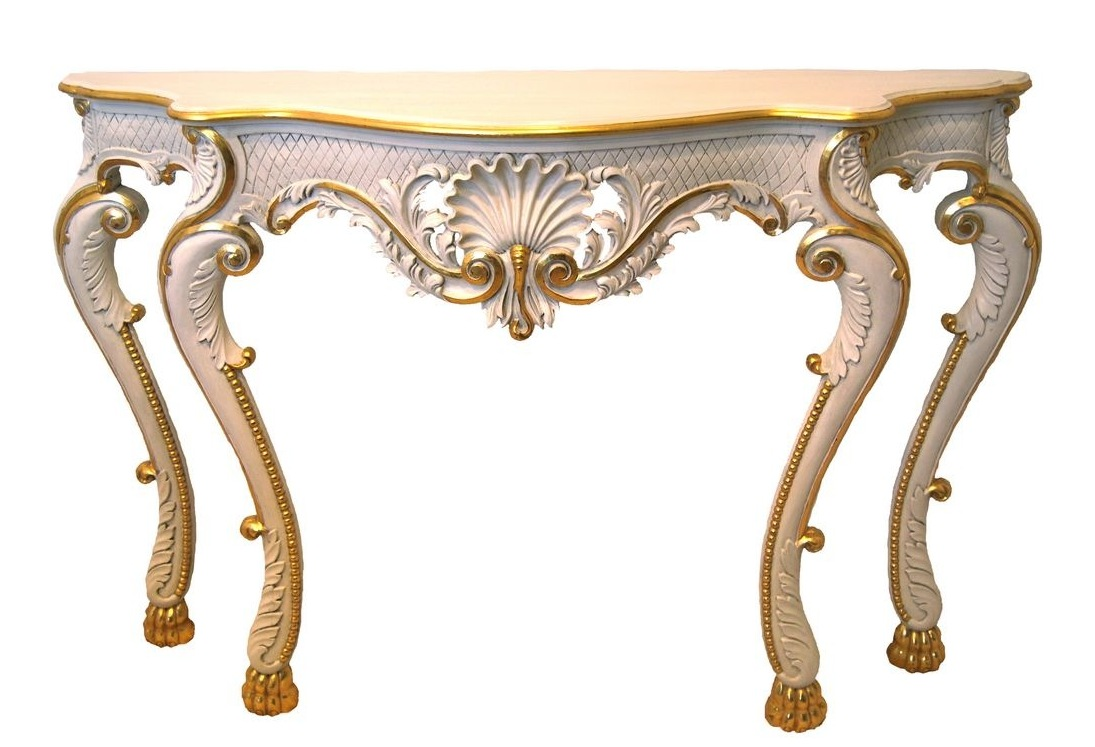Carving Table: (55, 58, 1038, 747)
